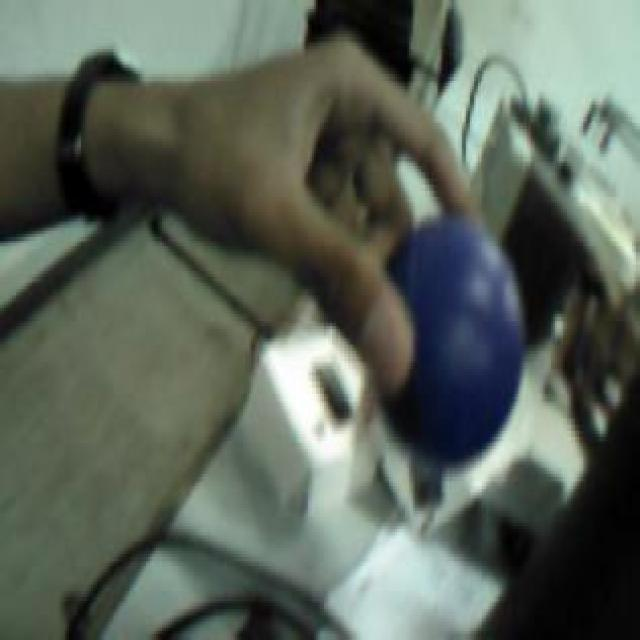BallPurple: (370, 214, 525, 463)
